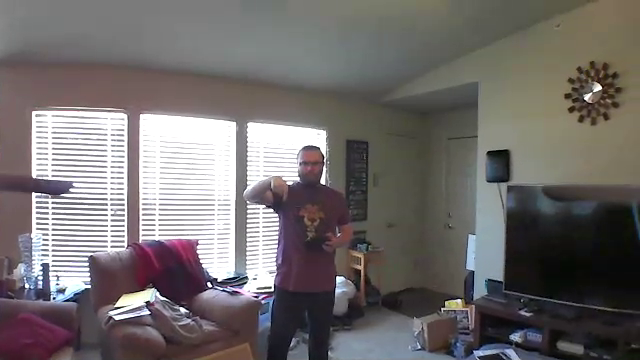down: (267, 172, 291, 208)
